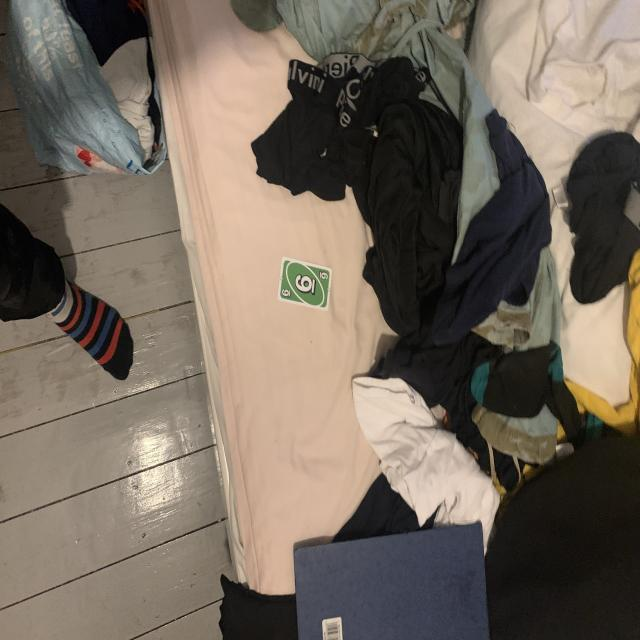lgreen-6: (280, 287, 292, 300)
